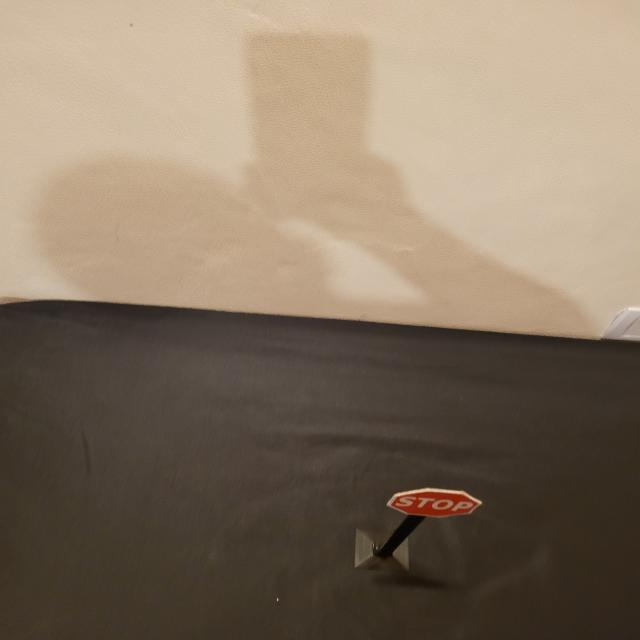stop: (384, 487, 482, 520)
